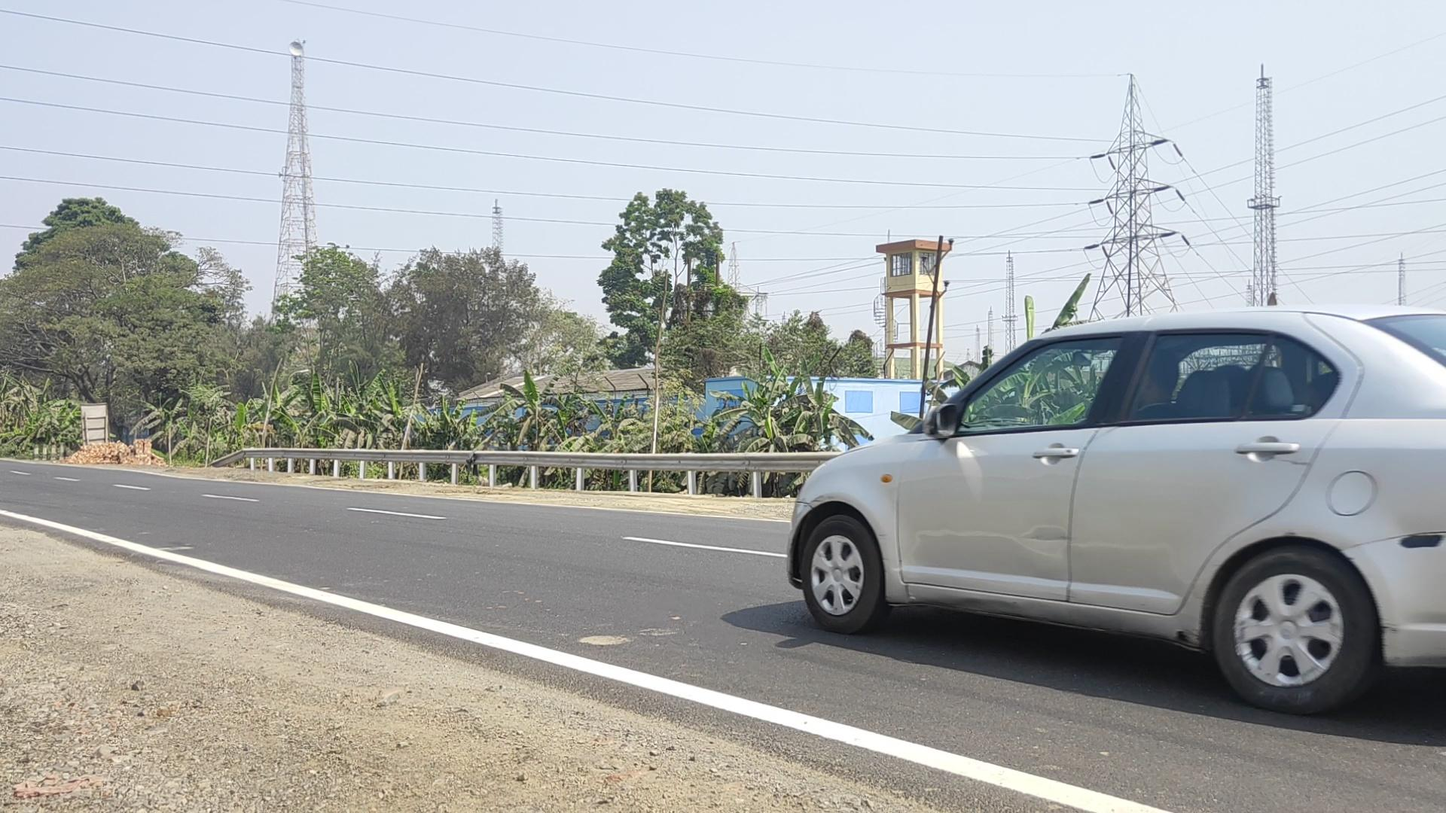car: (787, 305, 1446, 716)
